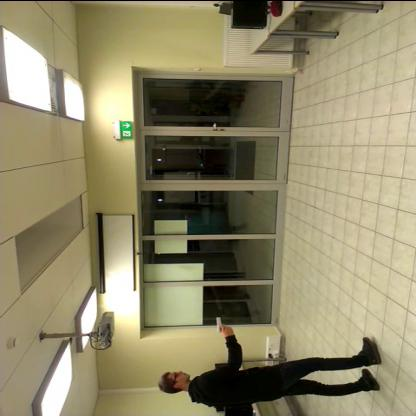Pistol: (208, 312, 237, 332)
